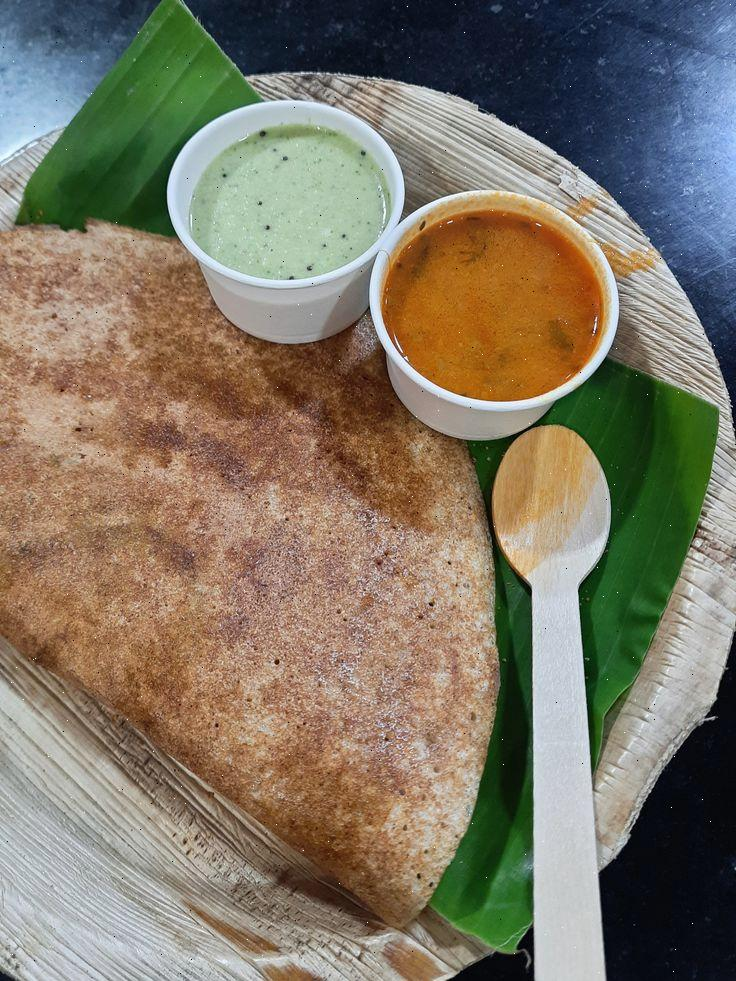dosa: (0, 251, 470, 954)
